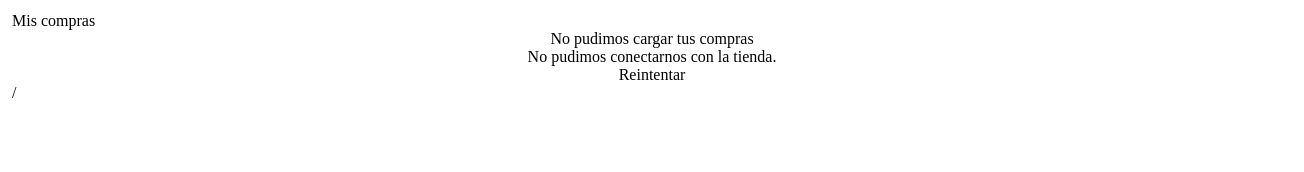
OrdersContainer › shows the API message on error and retries
Expected: the message shows "No pudimos conectarnos con la tienda.", [528, 48, 776, 65]
Step 1. Click the button "Reintentar" → (652, 75), box [619, 66, 685, 84]
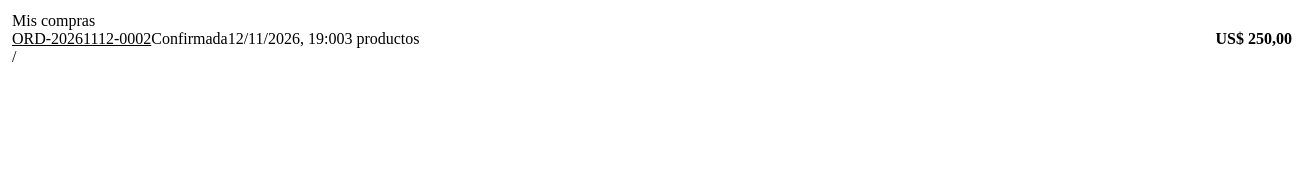
Now the list named "Mis compras" is shown, box [12, 30, 1292, 48]
